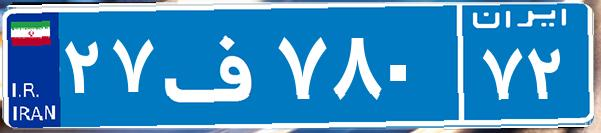0: (385, 28, 445, 110)
2: (57, 26, 110, 107), (525, 38, 570, 115)
7: (273, 28, 330, 110), (475, 38, 525, 113), (110, 28, 158, 105)
8: (330, 28, 385, 110)
ف: (158, 15, 273, 115)
